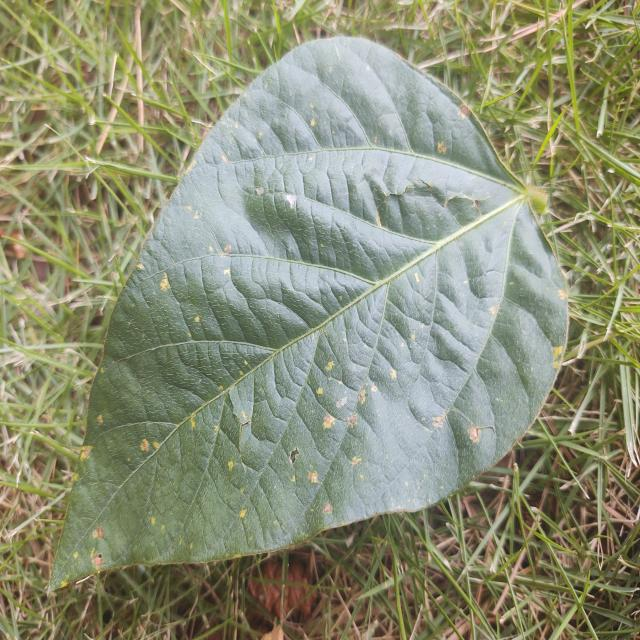Soybean: (54, 36, 570, 585)
downey_mildew: (79, 409, 305, 566), (466, 288, 531, 419), (309, 374, 378, 479), (309, 334, 369, 445), (138, 482, 203, 557), (368, 437, 423, 511), (60, 514, 110, 586), (450, 407, 492, 441), (138, 437, 160, 454), (553, 346, 564, 368), (323, 413, 336, 430), (432, 414, 446, 429), (458, 102, 471, 118), (159, 275, 171, 291), (80, 446, 92, 461), (92, 525, 104, 539), (437, 141, 447, 154), (558, 289, 569, 300), (308, 471, 318, 483), (325, 360, 334, 371), (389, 368, 397, 380), (488, 305, 497, 315), (60, 580, 69, 589), (224, 244, 232, 254), (227, 460, 234, 471), (241, 410, 248, 421), (190, 417, 196, 429), (221, 154, 228, 164), (414, 272, 420, 283), (136, 262, 144, 270), (223, 268, 231, 276), (193, 210, 200, 219), (97, 415, 103, 424), (257, 130, 263, 139), (72, 551, 78, 559), (73, 473, 79, 481), (317, 387, 323, 395), (310, 118, 316, 126), (208, 245, 214, 252), (194, 316, 200, 323), (151, 517, 156, 525), (291, 474, 296, 482), (411, 334, 416, 341), (100, 367, 104, 374), (161, 524, 165, 531), (244, 360, 248, 366)
